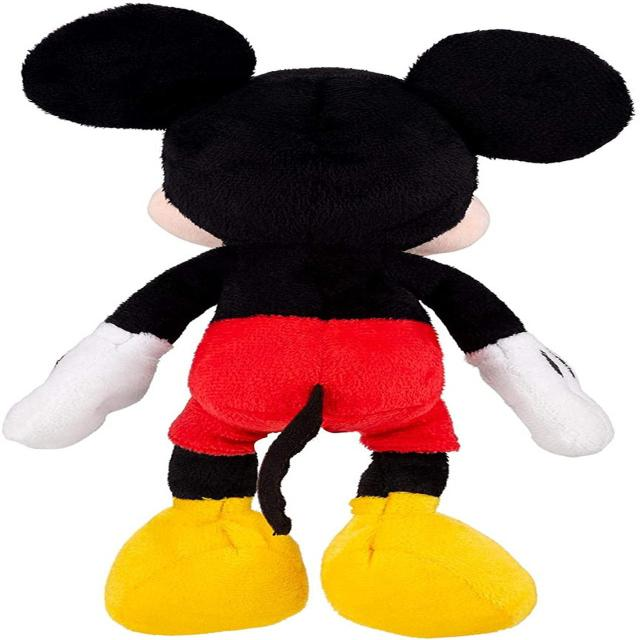mickey: (4, 5, 630, 637)
